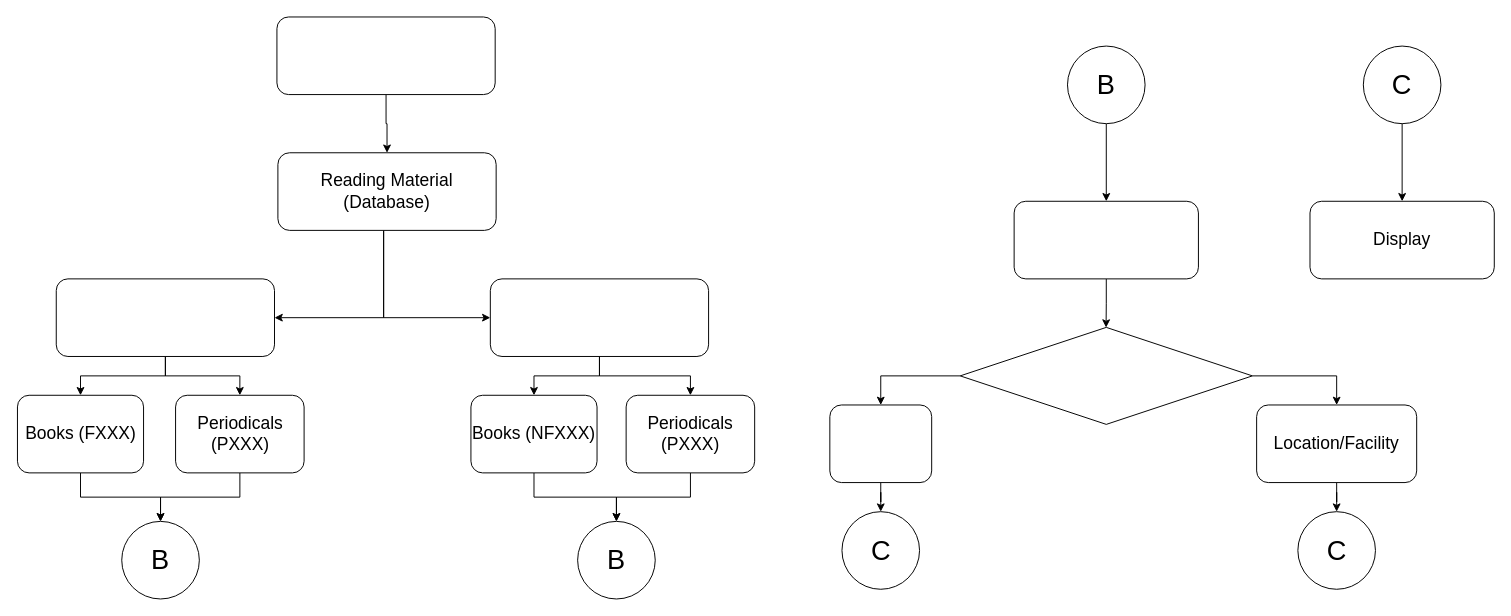
Image size: 1511x616. Some labels were removed from this diagram. The shapes that lost their labels are listed below. From the top down, each one's box as (x1, y1, x2, y2) in pixels, then its label:
(276, 16, 495, 95): Library
(1013, 200, 1198, 279): Unique Book ID /Equipment
(55, 278, 275, 356): Fiction
(489, 278, 709, 356): Non-Fiction
(959, 326, 1252, 424): Status (Checked Out/On-site)
(829, 404, 932, 483): User-ID (UXXX)
